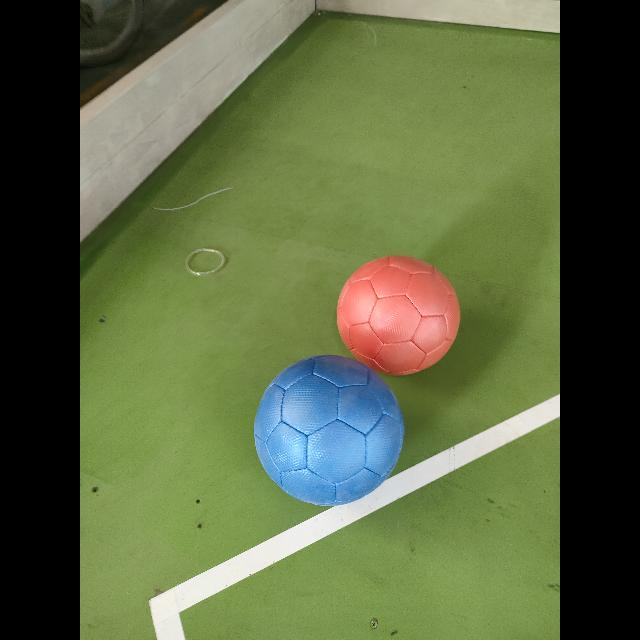B: (254, 355, 404, 505)
R: (336, 256, 459, 374)
